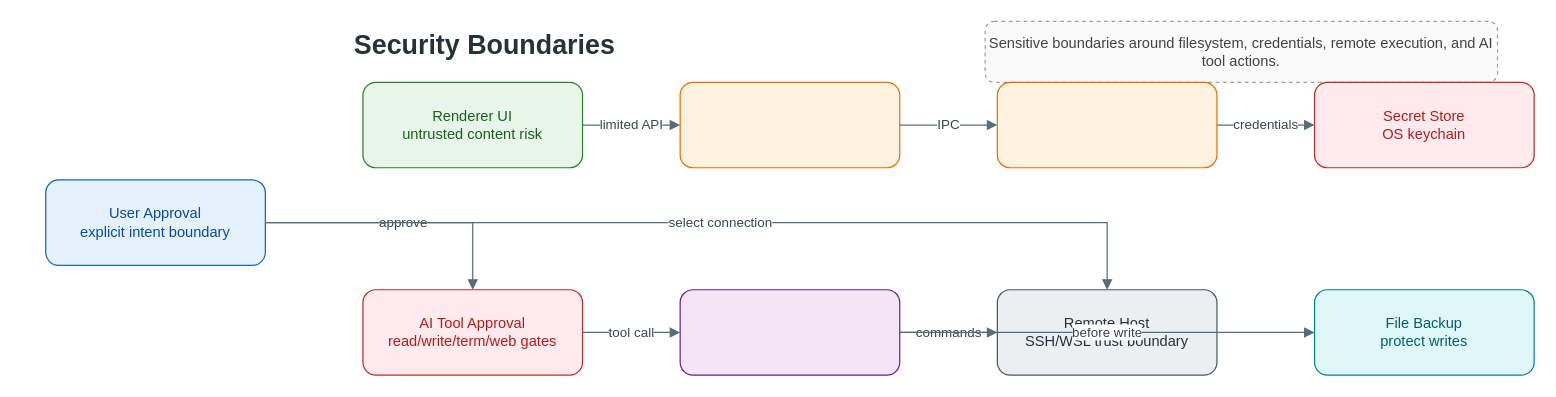
Image size: 1556x397. Some labels were removed from this diagram. The centre of each missing label's shape, as x and y in pixels:
"Electron Main native privileges" goes at point 1106,124.
"Go Backend file/process/network access" goes at point 789,332.
"Preload API controlled bridge" goes at point 789,124.
